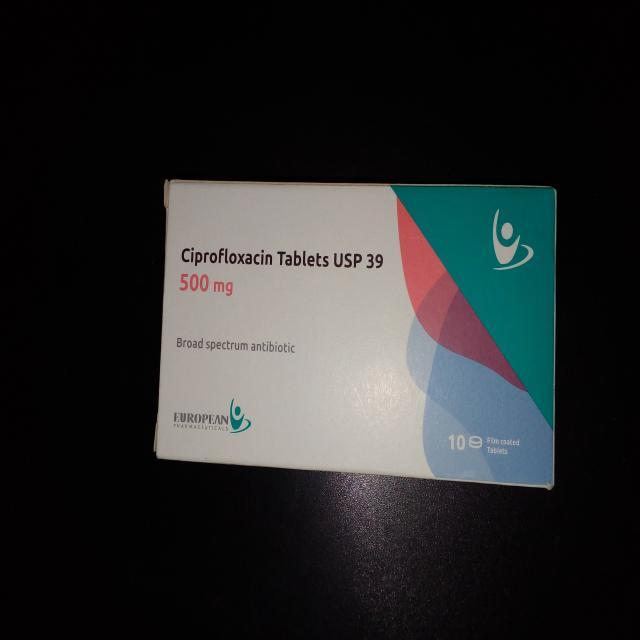Medicine Name: (178, 234, 277, 274)
